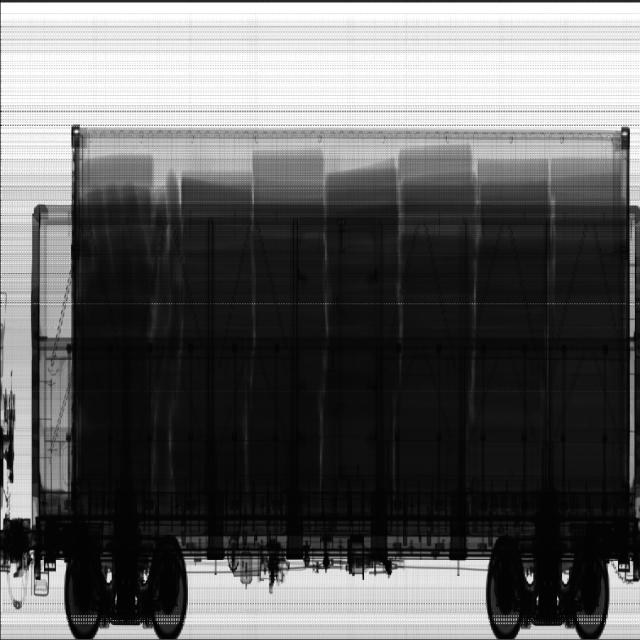fabrics: (76, 142, 626, 521)
